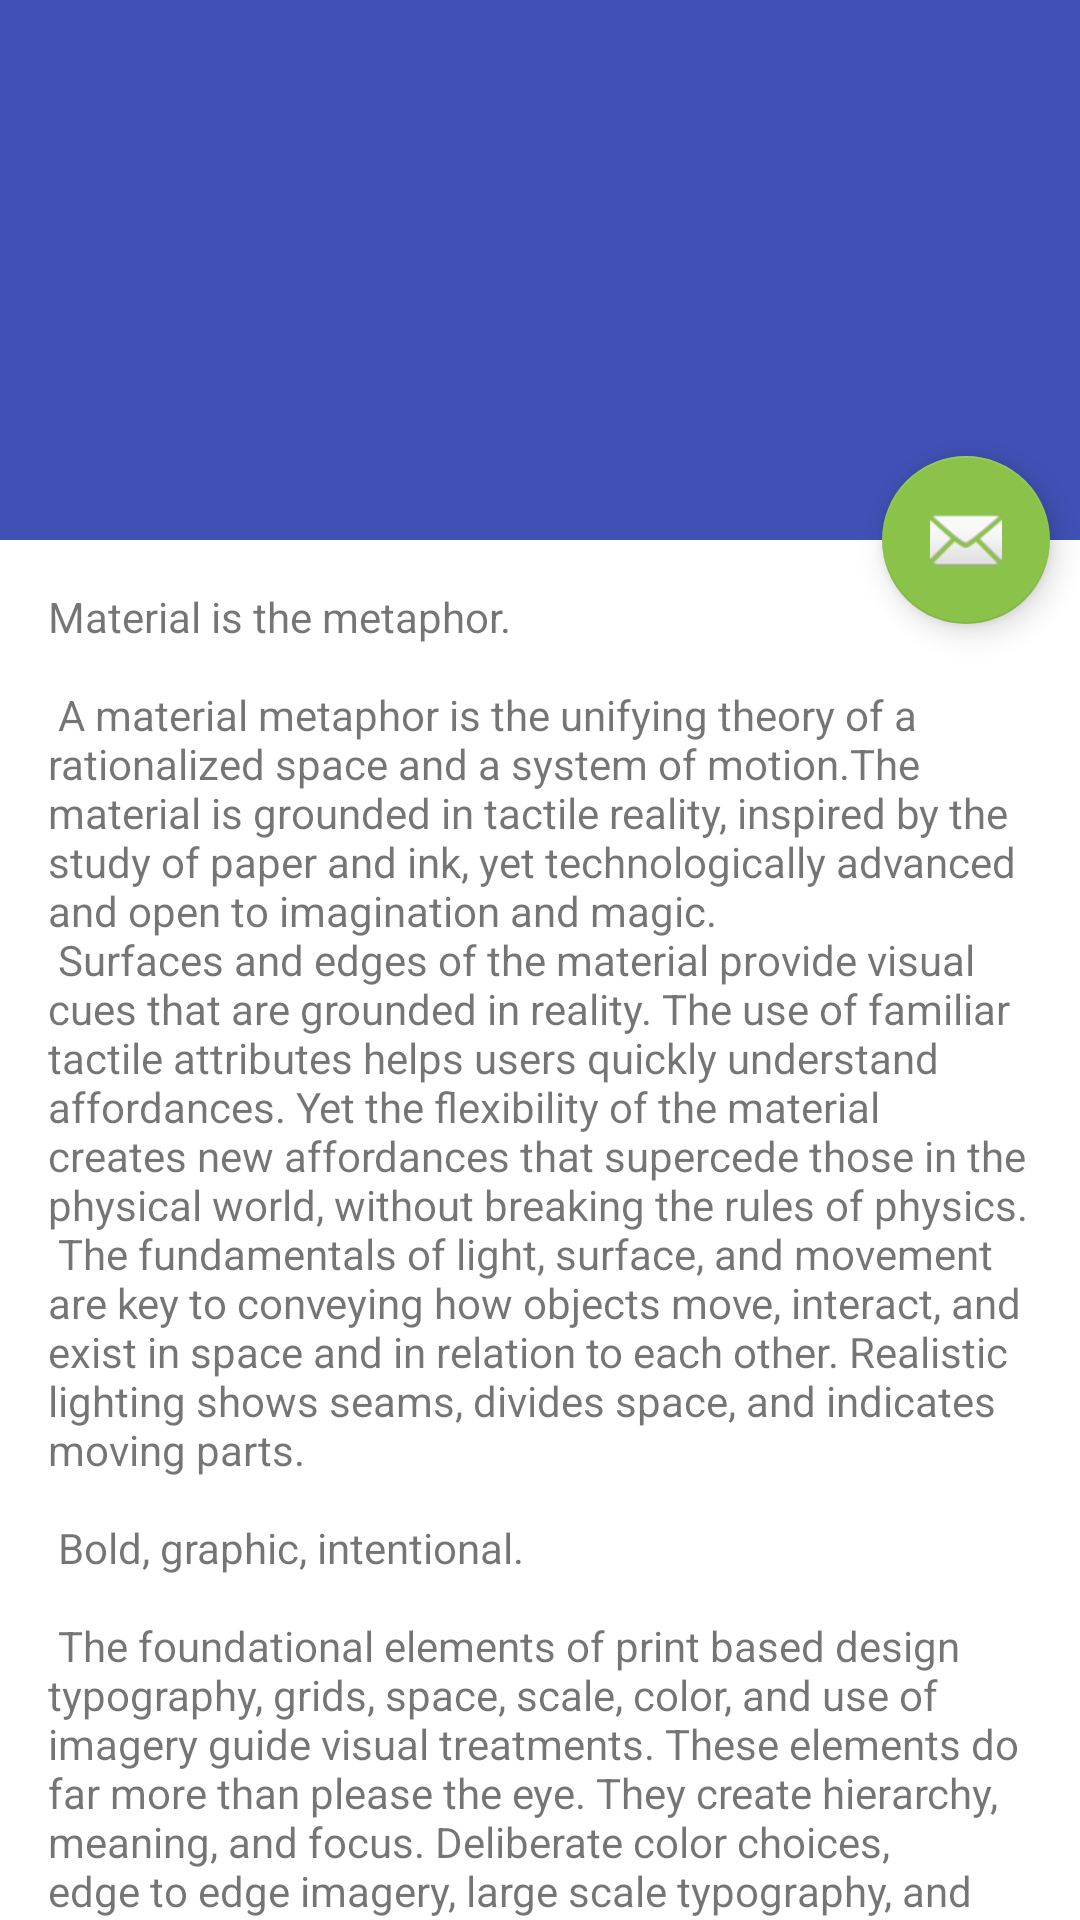

Point at icon controls on the screen. Image size 1080*1920, points as point (x, y).
email: point (966, 540)
